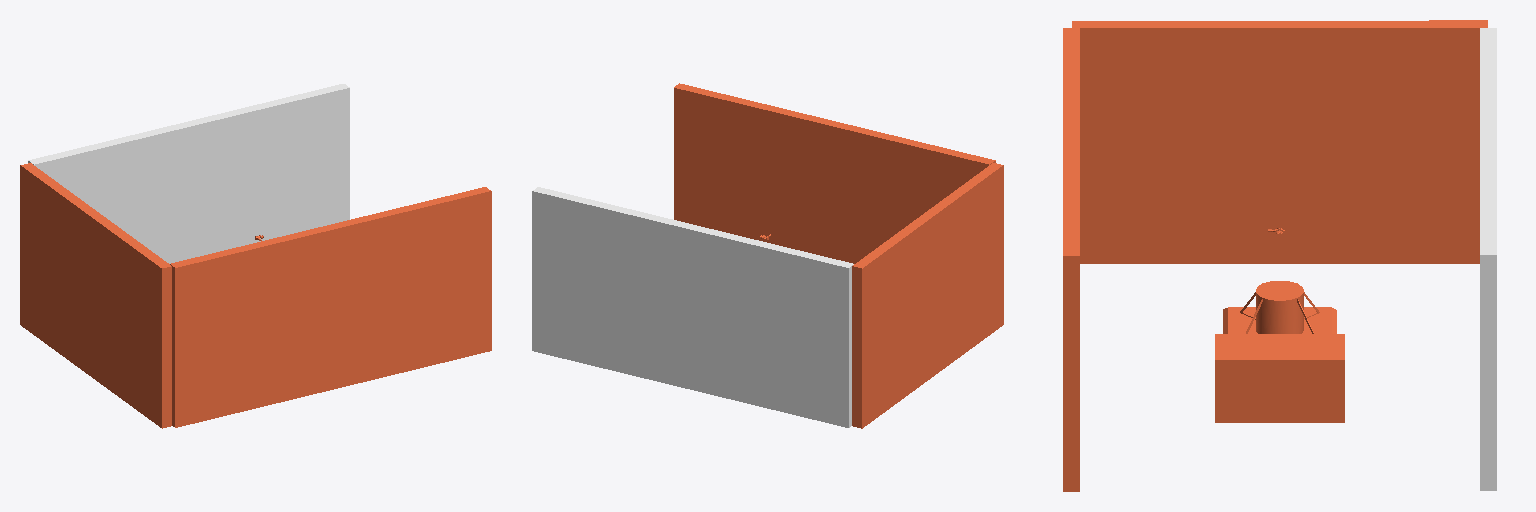
URDF robot description (abb_irb2600_model):
<?xml version="1.0" ?>
<!-- =================================================================================== -->
<!-- |    This document was autogenerated by xacro from [local-path]/Documents/industrial_robot_ws/src/IRB2600-ABB/irb2600_description/urdf/irb2600_main.xacro | -->
<!-- |    EDITING THIS FILE BY HAND IS NOT RECOMMENDED                                 | -->
<!-- =================================================================================== -->
<robot name="abb_irb2600_model">
    <!-- Conversion were obtained from http://www.e-paint.co.uk/Lab_values.asp
       unless otherwise stated. -->
    <!-- links -->
    <link name="base_link">
        <inertial>
            <origin rpy="0.0 0.0 0.0" xyz="0.0 0.0 0.0" />
            <mass value="92.5052" />
            <inertia ixx="1.0" ixy="1.0" ixz="1.0" iyy="1.0" iyz="1.0" izz="1.0" />
        </inertial>
        <visual>
            <origin rpy="0 0 0" xyz="0 0 0" />
            <geometry>
                <mesh filename="package://irb2600_description/meshes/visual/base_link.stl" />
            </geometry>
            <material name="">
                <color rgba="0.7372549 0.3490196 0.1607843 1" />
            </material>
        </visual>
        <collision>
            <origin rpy="0 0 0" xyz="0 0 0" />
            <geometry>
                <mesh filename="package://irb2600_description/meshes/collision/base_link.stl" />
            </geometry>
        </collision>
    </link>
    <link name="link_1">
        <inertial>
            <origin rpy="0.0 0.0 0.0" xyz="0.0 0.0 0.0" />
            <mass value="69.3794" />
            <inertia ixx="1.0" ixy="1.0" ixz="1.0" iyy="1.0" iyz="1.0" izz="1.0" />
        </inertial>
        <visual>
            <origin rpy="0 0 0" xyz="0 0 0" />
            <geometry>
                <mesh filename="package://irb2600_description/meshes/visual/link_1.stl" />
            </geometry>
            <material name="">
                <color rgba="0.7372549 0.3490196 0.1607843 1" />
            </material>
        </visual>
        <collision>
            <origin rpy="0 0 0" xyz="0 0 0" />
            <geometry>
                <mesh filename="package://irb2600_description/meshes/collision/link_1.stl" />
            </geometry>
        </collision>
    </link>
    <link name="link_2">
        <inertial>
            <origin rpy="0.0 0.0 0.0" xyz="0.0 0.0 0.0" />
            <mass value="35.0020" />
            <inertia ixx="1.0" ixy="1.0" ixz="1.0" iyy="1.0" iyz="1.0" izz="1.0" />
        </inertial>
        <visual>
            <origin rpy="0 0 0" xyz="0 0 0" />
            <geometry>
                <mesh filename="package://irb2600_description/meshes/visual/link_2.stl" />
            </geometry>
            <material name="">
                <color rgba="0.7372549 0.3490196 0.1607843 1" />
            </material>
        </visual>
        <collision>
            <origin rpy="0 0 0" xyz="0 0 0" />
            <geometry>
                <mesh filename="package://irb2600_description/meshes/collision/link_2.stl" />
            </geometry>
        </collision>
    </link>
    <link name="link_3">
        <inertial>
            <origin rpy="0.0 0.0 0.0" xyz="0.0 0.0 0.0" />
            <mass value="68.5583" />
            <inertia ixx="1.0" ixy="1.0" ixz="1.0" iyy="1.0" iyz="1.0" izz="1.0" />
        </inertial>
        <visual>
            <origin rpy="0 0 0" xyz="0 0 0" />
            <geometry>
                <mesh filename="package://irb2600_description/meshes/visual/link_3.stl" />
            </geometry>
            <material name="">
                <color rgba="0.7372549 0.3490196 0.1607843 1" />
            </material>
        </visual>
        <collision>
            <origin rpy="0 0 0" xyz="0 0 0" />
            <geometry>
                <mesh filename="package://irb2600_description/meshes/collision/link_3.stl" />
            </geometry>
        </collision>
    </link>
    <link name="link_4">
        <inertial>
            <origin rpy="0.0 0.0 0.0" xyz="0.0 0.0 0.0" />
            <mass value="18.0455" />
            <inertia ixx="1.0" ixy="1.0" ixz="1.0" iyy="1.0" iyz="1.0" izz="1.0" />
        </inertial>
        <visual>
            <origin rpy="0 0 0" xyz="0 0 0" />
            <geometry>
                <mesh filename="package://irb2600_description/meshes/visual/link_4.stl" />
            </geometry>
            <material name="">
                <color rgba="0.7372549 0.3490196 0.1607843 1" />
            </material>
        </visual>
        <collision>
            <origin rpy="0 0 0" xyz="0 0 0" />
            <geometry>
                <mesh filename="package://irb2600_description/meshes/collision/link_4.stl" />
            </geometry>
        </collision>
    </link>
    <link name="link_5">
        <inertial>
            <origin rpy="0.0 0.0 0.0" xyz="0.0 0.0 0.0" />
            <mass value="1.0738" />
            <inertia ixx="1.0" ixy="1.0" ixz="1.0" iyy="1.0" iyz="1.0" izz="1.0" />
        </inertial>
        <visual>
            <origin rpy="0 0 0" xyz="0 0 0" />
            <geometry>
                <mesh filename="package://irb2600_description/meshes/visual/link_5.stl" />
            </geometry>
            <material name="">
                <color rgba="0.7372549 0.3490196 0.1607843 1" />
            </material>
        </visual>
        <collision>
            <origin rpy="0 0 0" xyz="0 0 0" />
            <geometry>
                <mesh filename="package://irb2600_description/meshes/collision/link_5.stl" />
            </geometry>
        </collision>
    </link>
    <link name="link_6">
        <inertial>
            <origin rpy="0.0 0.0 0.0" xyz="0.0 0.0 0.0" />
            <mass value="0.1418" />
            <inertia ixx="1.0" ixy="1.0" ixz="1.0" iyy="1.0" iyz="1.0" izz="1.0" />
        </inertial>
        <visual>
            <origin rpy="0 0 0" xyz="0 0 0" />
            <geometry>
                <mesh filename="package://irb2600_description/meshes/visual/link_6.stl" />
            </geometry>
            <material name="">
                <color rgba="0.5 0.5 0.5 1" />
            </material>
        </visual>
        <collision>
            <origin rpy="0 0 0" xyz="0 0 0" />
            <geometry>
                <mesh filename="package://irb2600_description/meshes/collision/link_6.stl" />
            </geometry>
        </collision>
    </link>
    <!-- Joints -->
    <joint name="joint_1" type="revolute">
        <origin rpy="0 0 0" xyz="0 0 0.445" />
        <parent link="base_link" />
        <child link="link_1" />
        <axis xyz="0 0 1" />
        <limit effort="0" lower="-3.14159" upper="3.14159" velocity="3.054" />
    </joint>
    <joint name="joint_2" type="revolute">
        <origin rpy="0 0 0" xyz="0.15 0 0.0" />
        <parent link="link_1" />
        <child link="link_2" />
        <axis xyz="0 1 0" />
        <limit effort="0" lower="-2.705" upper="1.658" velocity="3.054" />
    </joint>
    <joint name="joint_3" type="revolute">
        <origin rpy="0 0 0" xyz="0 0 0.7" />
        <parent link="link_2" />
        <child link="link_3" />
        <axis xyz="0 1 0" />
        <limit effort="0" lower="-2.705" upper="1.309" velocity="3.054" />
    </joint>
    <joint name="joint_4" type="revolute">
        <origin rpy="0 0 0" xyz="0 0 0.115" />
        <parent link="link_3" />
        <child link="link_4" />
        <axis xyz="1 0 0" />
        <limit effort="0" lower="-6.981" upper="6.981" velocity="6.283" />
    </joint>
    <joint name="joint_5" type="revolute">
        <origin rpy="0 0 0" xyz="0.795 0 0 " />
        <parent link="link_4" />
        <child link="link_5" />
        <axis xyz="0 1 0" />
        <limit effort="0" lower="-2.094" upper="2.094" velocity="6.283" />
    </joint>
    <joint name="joint_6" type="revolute">
        <origin rpy="0 0 0" xyz="0.085 0 0" />
        <parent link="link_5" />
        <child link="link_6" />
        <axis xyz="1 0 0" />
        <limit effort="0" lower="-6.981" upper="6.981" velocity="8.727" />
    </joint>
    <!-- ROS-Industrial 'base' frame: base_link to ABB World Coordinates transform -->
    <link name="base" />
    <joint name="base_link-base" type="fixed">
        <origin rpy="0 0 0" xyz="0 0 0" />
        <parent link="base_link" />
        <child link="base" />
    </joint>
    <!-- ROS-Industrial 'flange' frame: attachment point for EEF models -->
    <link name="flange" />
    <joint name="joint_6-flange" type="fixed">
        <origin rpy="0 0 0" xyz="0 0 0" />
        <parent link="link_6" />
        <child link="flange" />
    </joint>
    <!-- ROS-Industrial 'tool0' frame: all-zeros tool frame -->
    <link name="tool0" />
    <joint name="link_6-tool0" type="fixed">
        <origin rpy="0 1.5707963267948966 0" xyz="0 0 0" />
        <parent link="flange" />
        <child link="tool0" />
    </joint>
    <link name="world" />
    <!-- get base ABB IRB2600 model -->
    <!-- <xacro:abb_irb2600_12_165 prefix="${prefix}" />-->
    <!-- transmission list -->
    <transmission name="tran1">
        <type>transmission_interface/SimpleTransmission</type>
        <joint name="joint_1">
            <hardwareInterface>hardware_interface/PositionJointInterface</hardwareInterface>
        </joint>
        <actuator name="motor1">
            <hardwareInterface>hardware_interface/PositionJointInterface</hardwareInterface>
            <mechanicalReduction>1</mechanicalReduction>
        </actuator>
    </transmission>
    <transmission name="tran2">
        <type>transmission_interface/SimpleTransmission</type>
        <joint name="joint_2">
            <hardwareInterface>hardware_interface/PositionJointInterface</hardwareInterface>
        </joint>
        <actuator name="motor2">
            <hardwareInterface>hardware_interface/PositionJointInterface</hardwareInterface>
            <mechanicalReduction>1</mechanicalReduction>
        </actuator>
    </transmission>
    <transmission name="tran3">
        <type>transmission_interface/SimpleTransmission</type>
        <joint name="joint_3">
            <hardwareInterface>hardware_interface/PositionJointInterface</hardwareInterface>
        </joint>
        <actuator name="motor3">
            <hardwareInterface>hardware_interface/PositionJointInterface</hardwareInterface>
            <mechanicalReduction>1</mechanicalReduction>
        </actuator>
    </transmission>
    <transmission name="tran4">
        <type>transmission_interface/SimpleTransmission</type>
        <joint name="joint_4">
            <hardwareInterface>hardware_interface/PositionJointInterface</hardwareInterface>
        </joint>
        <actuator name="motor4">
            <hardwareInterface>hardware_interface/PositionJointInterface</hardwareInterface>
            <mechanicalReduction>1</mechanicalReduction>
        </actuator>
    </transmission>
    <transmission name="tran5">
        <type>transmission_interface/SimpleTransmission</type>
        <joint name="joint_5">
            <hardwareInterface>hardware_interface/PositionJointInterface</hardwareInterface>
        </joint>
        <actuator name="motor5">
            <hardwareInterface>hardware_interface/PositionJointInterface</hardwareInterface>
            <mechanicalReduction>1</mechanicalReduction>
        </actuator>
    </transmission>
    <transmission name="tran6">
        <type>transmission_interface/SimpleTransmission</type>
        <joint name="joint_6">
            <hardwareInterface>hardware_interface/PositionJointInterface</hardwareInterface>
        </joint>
        <actuator name="motor6">
            <hardwareInterface>hardware_interface/PositionJointInterface</hardwareInterface>
            <mechanicalReduction>1</mechanicalReduction>
        </actuator>
    </transmission>
    <!-- end of transmission list -->
    <!-- Gazebo-specific link properties -->
    <gazebo reference="base_link">
        <material>Gazebo/White</material>
        <turnGravityOff>true</turnGravityOff>
        <plugin name="gazebo_ros_control">
            <robotNamespace>/</robotNamespace>
        </plugin>
    </gazebo>
    <gazebo reference="link_1">
        <material>Gazebo/White</material>
        <turnGravityOff>true</turnGravityOff>
    </gazebo>
    <gazebo reference="link_2">
        <material>Gazebo/White</material>
        <turnGravityOff>true</turnGravityOff>
    </gazebo>
    <gazebo reference="link_3">
        <material>Gazebo/White</material>
        <turnGravityOff>true</turnGravityOff>
    </gazebo>
    <gazebo reference="link_4">
        <material>Gazebo/White</material>
        <turnGravityOff>true</turnGravityOff>
    </gazebo>
    <gazebo reference="link_5">
        <material>Gazebo/White</material>
        <turnGravityOff>true</turnGravityOff>
    </gazebo>
    <gazebo reference="link_6">
        <material>Gazebo/Black</material>
        <turnGravityOff>true</turnGravityOff>
    </gazebo>
    <!-- ros_control plugin -->
    <gazebo>
        <plugin filename="libgazebo_ros_control.so" name="gazebo_ros_control">
            <!-- <robotNamespace>/</robotNamespace>-->
            <!--<robotSimType>gazebo_ros_control/DefaultRobotHWSim</robotSimType>-->
        </plugin>
    </gazebo>
    <material name="coral">
        <color rgba="1.0 0.4980392156862745 0.3137254901960784 1.0" />
    </material>
    <!-- HERE you can change the position of the robot in the table -->
    <link name="base_mesh">
        <visual>
            <origin rpy="1.5708 0 0" xyz="0.0 0 0" />
            <geometry>
                <mesh filename="package://irb2600_description/meshes/supports/robot_base_iam.stl" scale="0.01005 0.01005 0.01005" />
            </geometry>
            <material name="coral" />
        </visual>
        <collision>
            <origin rpy="1.5708 0 0" xyz="0.0 0 0" />
            <geometry>
                <mesh filename="package://irb2600_description/meshes/supports/robot_base_iam.stl" scale="0.01005 0.01005 0.01005" />
            </geometry>
            <material name="coral" />
        </collision>
        <inertial>
            <origin rpy="0 0 0" xyz="0.0 0.0 0.0" />
            <mass value="0.001" />
            <inertia ixx="1.0e-06" ixy="0.0" ixz="0.0" iyy="1.0e-06" iyz="0.0" izz="1.0e-06" />
        </inertial>
    </link>
    <joint name="base_mesh_joint" type="fixed">
        <parent link="world" />
        <child link="base_mesh" />
        <origin rpy="0 0 0" xyz="0 0 0.209" />
    </joint>
    <joint name="base_robot_joint" type="fixed">
        <parent link="base_mesh" />
        <child link="base_link" />
        <origin rpy="0 0 0" xyz="0 0 0.378" />
    </joint>
    <material name="coral4">
        <color rgba="1.0 0.4980392156862745 0.3137254901960784 1.0" />
    </material>
    <material name="transparent">
        <color rgba="1.0 1.0 1.0 0.1" />
    </material>
    <!-- HERE you can change the position of the robot in the table -->
    <link name="wall_back">
        <visual>
            <origin rpy="0 0 0" xyz="0 -2.1 1.5" />
            <geometry>
                <box size="4.8 0.2 3.0" />
            </geometry>
            <material name="coral4" />
        </visual>
        <collision>
            <origin rpy="0 0 0" xyz="0 -2.1 1.5" />
            <geometry>
                <box size="4.8 0.2 3.0" />
            </geometry>
            <material name="coral4" />
        </collision>
        <inertial>
            <origin rpy="0 0 0" xyz="0.0 0.0 0.0" />
            <mass value="0.001" />
            <inertia ixx="1.0e-06" ixy="0.0" ixz="0.0" iyy="1.0e-06" iyz="0.0" izz="1.0e-06" />
        </inertial>
    </link>
    <link name="wall_right">
        <visual>
            <origin rpy="0 0 1.57" xyz="2.4 1.11 1.5" />
            <geometry>
                <box size="6.2 0.2 3.0" />
            </geometry>
            <material name="coral4" />
        </visual>
        <collision>
            <origin rpy="0 0 1.57" xyz="2.4 1.11 1.5" />
            <geometry>
                <box size="6.2 0.2 3.0" />
            </geometry>
            <material name="coral4" />
        </collision>
        <inertial>
            <origin rpy="0 0 0" xyz="0.0 0.0 0.0" />
            <mass value="0.001" />
            <inertia ixx="1.0e-06" ixy="0.0" ixz="0.0" iyy="1.0e-06" iyz="0.0" izz="1.0e-06" />
        </inertial>
    </link>
    <link name="wall_left">
        <visual>
            <origin rpy="0 0 1.57" xyz="-2.4 1.11 1.5" />
            <geometry>
                <box size="6.2 0.2 3.0" />
            </geometry>
            <material name="transparent" />
        </visual>
        <collision>
            <origin rpy="0 0 1.57" xyz="-2.4 1.11 1.5" />
            <geometry>
                <box size="6.2 0.2 3.0" />
            </geometry>
            <material name="transparent" />
        </collision>
        <inertial>
            <origin rpy="0 0 0" xyz="0.0 0.0 0.0" />
            <mass value="0.001" />
            <inertia ixx="1.0e-06" ixy="0.0" ixz="0.0" iyy="1.0e-06" iyz="0.0" izz="1.0e-06" />
        </inertial>
    </link>
    <joint name="wallback_j" type="fixed">
        <parent link="world" />
        <child link="wall_back" />
        <origin rpy="0 0 -1.57" xyz="0 0 0" />
    </joint>
    <joint name="wallback_j2" type="fixed">
        <parent link="world" />
        <child link="wall_right" />
        <origin rpy="0 0 -1.57" xyz="0 0 0" />
    </joint>
    <joint name="wallback_j3" type="fixed">
        <parent link="world" />
        <child link="wall_left" />
        <origin rpy="0 0 -1.57" xyz="0 0 0" />
    </joint>
    <gazebo reference="wall_left">
        <material>Gazebo/GreyTransparent</material>
    </gazebo>
    <material name="coral3">
        <color rgba="1.0 0.4980392156862745 0.3137254901960784 1.0" />
    </material>
    <!-- HERE you can change the position of the robot in the table -->
    <link name="table">
        <visual>
            <origin rpy="0 0 0" xyz="0 2.0 0.405" />
            <geometry>
                <box size="1.5 0.7 0.81" />
            </geometry>
            <material name="coral3" />
        </visual>
        <collision>
            <origin rpy="0 0 0" xyz="0 2.0 0.405" />
            <geometry>
                <box size="1.5 0.7 0.81" />
            </geometry>
            <material name="coral3" />
        </collision>
        <inertial>
            <origin rpy="0 0 0" xyz="0.0 0.0 0.0" />
            <mass value="0.001" />
            <inertia ixx="1.0e-06" ixy="0.0" ixz="0.0" iyy="1.0e-06" iyz="0.0" izz="1.0e-06" />
        </inertial>
    </link>
    <joint name="table_j" type="fixed">
        <parent link="world" />
        <child link="table" />
        <origin rpy="0 0 -1.57" xyz="0 0 0" />
    </joint>
    <gazebo reference="table">
        <material>Gazebo/Wood</material>
    </gazebo>
    <material name="coral2">
        <color rgba="1.0 0.4980392156862745 0.3137254901960784 1.0" />
    </material>
    <!-- verificar angulo de camera_support -->
    <link name="vacuum_end">
        <inertial>
            <origin rpy="1.570796327 0 0" xyz="0 0 0" />
            <mass value="0.30915" />
            <inertia ixx="0.00028972" ixy="-5.7879E-10" ixz="-1.8543E-06" iyy="0.00030737" iyz="1.682E-12" izz="0.00019914" />
        </inertial>
        <visual>
            <origin rpy="3.1416 0 0" xyz="0 0 0" />
            <geometry>
                <mesh filename="package://irb2600_description/meshes/supports/vacuum_ee.stl" scale="0.025 0.025 0.025" />
            </geometry>
            <material name="coral2" />
        </visual>
        <collision>
            <origin rpy="3.1416 0 0" xyz="0 0 0" />
            <geometry>
                <mesh filename="package://irb2600_description/meshes/supports/vacuum_ee.stl" scale="0.02 0.02 0.02" />
            </geometry>
        </collision>
    </link>
    <joint name="irb2600_joint_vacuum_end" type="fixed">
        <parent link="tool0" />
        <child link="vacuum_end" />
        <origin rpy="0 0 -1.570796" xyz="0 0 0.0634" />
    </joint>
    <!-- end effect point -->
    <joint name="end_effect_point" type="fixed">
        <origin rpy="0 0 0" xyz="0 0 0.2472" />
        <parent link="tool0" />
        <child link="end_effect_point" />
    </joint>
    <!-- end effect point -->
    <link name="end_effect_point">
        <visual>
            <origin rpy="0 0 0" xyz="0 0 -0.1" />
            <geometry>
                <box size="0.002 0.002 0.002" />
            </geometry>
            <material name="">
                <color rgba="0.8 0.0 0.0 1.0" />
            </material>
        </visual>
        <!-- <inertial>
      <origin rpy="0 0 0" xyz="0.0 0.0 0.0"/>
      <mass value="0.001"/>
      <inertia ixx="1.0e-06" ixy="0.0" ixz="0.0" iyy="1.0e-06" iyz="0.0" izz="1.0e-06"/>
    </inertial> -->
    </link>
</robot>

--- Facts derived from the render (not from the file) ---
The picture shows the robot from 3 angles, left to right: view 1: azimuth 30°, elevation 25°; view 2: azimuth 150°, elevation 25°; view 3: azimuth 270°, elevation 25°; orthographic projection.
Model abb_irb2600_model with 18 links and 17 joints (6 revolute, 11 fixed), rooted at world, posed all joints at 0.
Links seen in each view (by area): view 1: wall_right, wall_left, wall_back; view 2: wall_left, wall_right, wall_back; view 3: wall_back, table, wall_right, wall_left, base_mesh.
Link boxes in pixels (<box>): wall_right: <box>170,187,491,427</box>; wall_left: <box>28,84,349,263</box>; wall_back: <box>20,163,171,428</box>; wall_left: <box>532,187,853,427</box>; wall_right: <box>674,83,995,263</box>; wall_back: <box>852,163,1003,428</box>; wall_back: <box>1072,20,1487,263</box>; table: <box>1215,334,1344,422</box>; wall_right: <box>1063,28,1079,491</box>; wall_left: <box>1480,28,1496,490</box>; base_mesh: <box>1223,281,1336,333</box>.
Bounding box of the posed robot: 6.41 × 5 × 3 m (x, y, z).
Meshes: 9 distinct files referenced, 2 mesh visuals loaded (2 binary STL); not drawn: 7 (reference not matched to a file when rendering).
